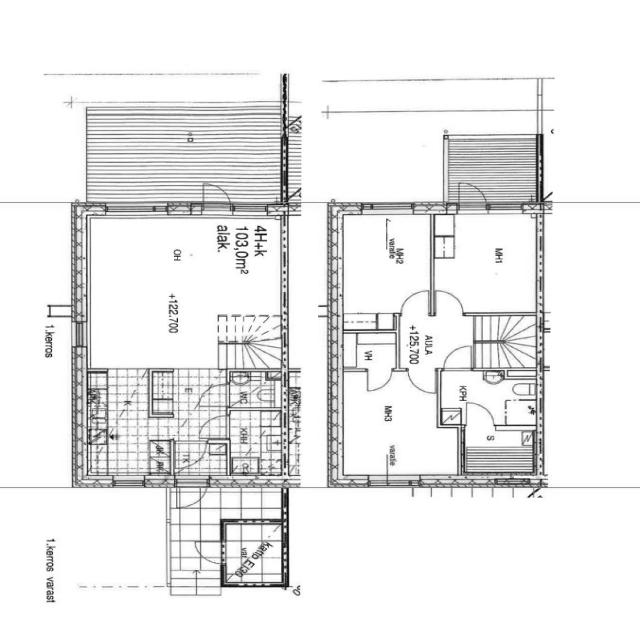door: (445, 372, 538, 429), (188, 537, 228, 570), (198, 178, 234, 213), (174, 476, 208, 510), (452, 180, 488, 212), (429, 287, 468, 316), (404, 366, 440, 396), (441, 342, 476, 372), (398, 287, 433, 316), (461, 401, 497, 428), (198, 412, 229, 440), (197, 382, 229, 409), (362, 367, 394, 394), (177, 444, 208, 470)
window: (98, 200, 189, 220), (360, 199, 424, 217), (69, 312, 90, 354), (360, 476, 413, 490), (228, 202, 272, 218), (483, 200, 528, 214), (102, 478, 150, 490)
zone: (79, 210, 287, 375), (331, 372, 458, 485), (432, 208, 540, 316), (332, 208, 434, 319), (440, 370, 540, 426), (458, 425, 540, 481), (227, 406, 284, 477), (222, 520, 283, 584), (337, 332, 397, 371), (227, 373, 284, 408)
